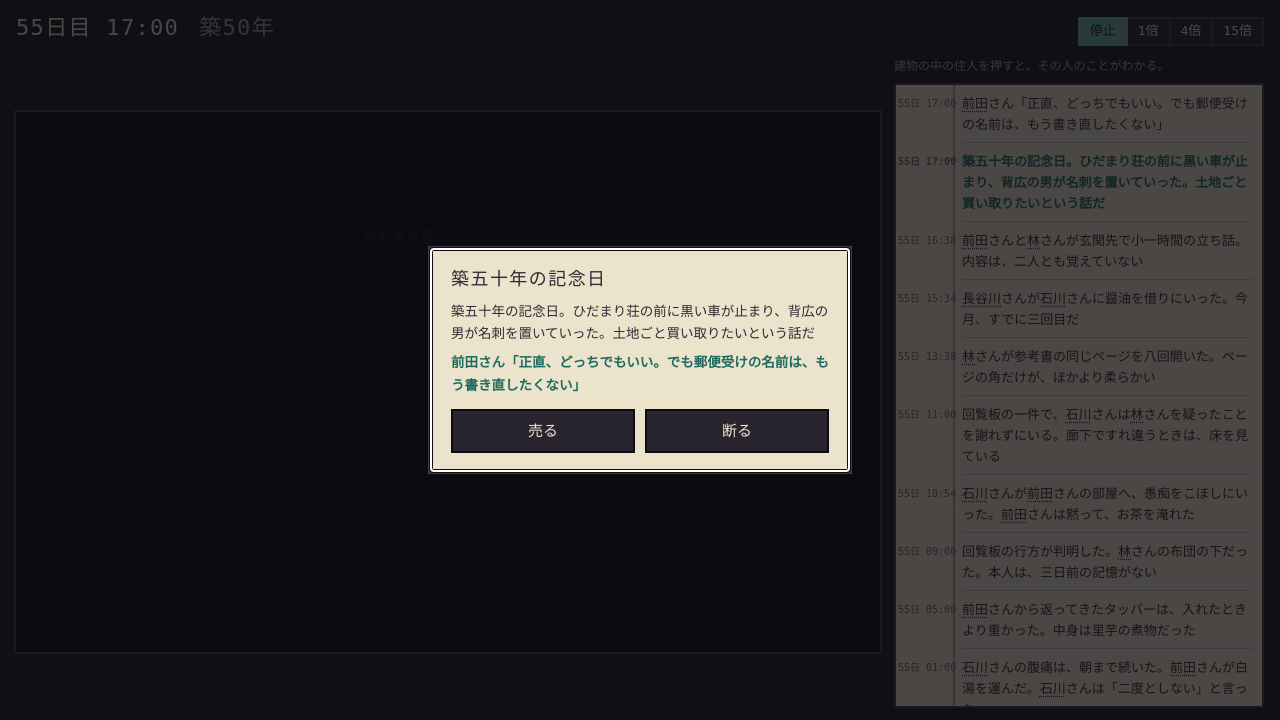
Scenario: C8: 記念日のダイアログ以外に操作ボタン（選択肢）が無い › 「断る」を押すとダイアログもボタンも消え、続行が保存される
The width and height of the screenshot is (1280, 720).
Click the button "断る".
click(737, 431)  # box x1=645 y1=409 x2=829 y2=453
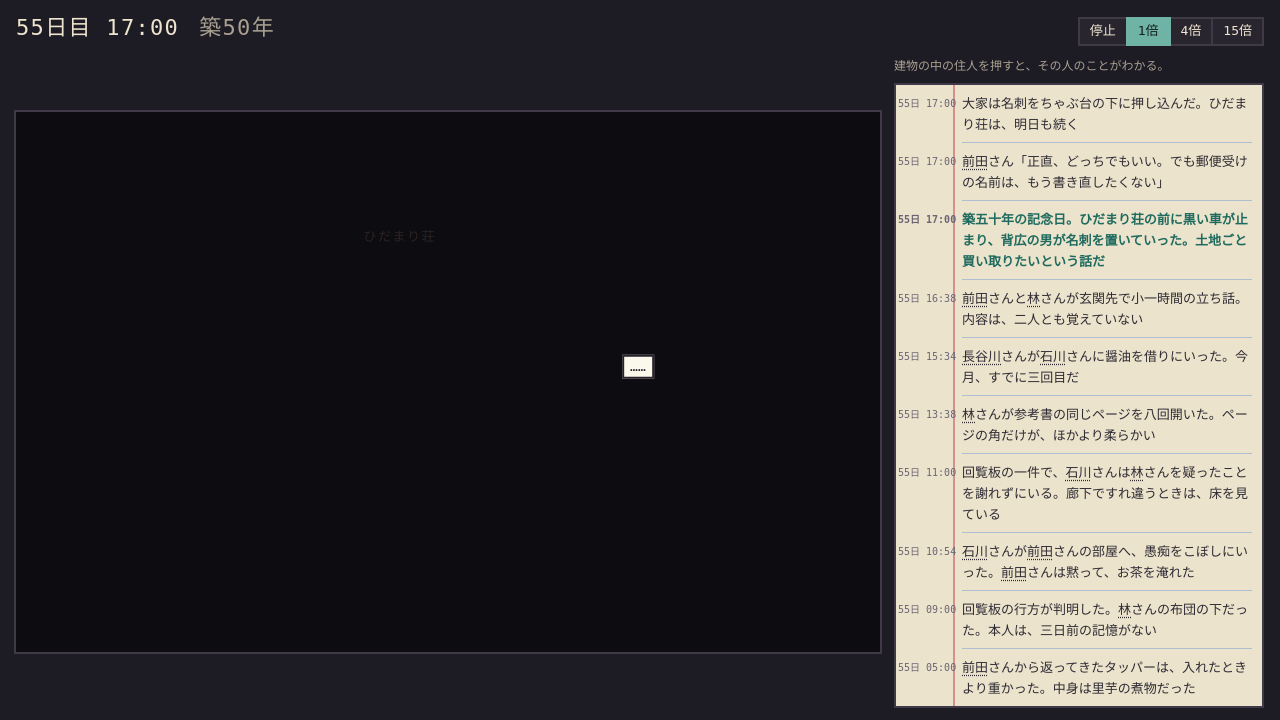
Expected: the dialog is gone
